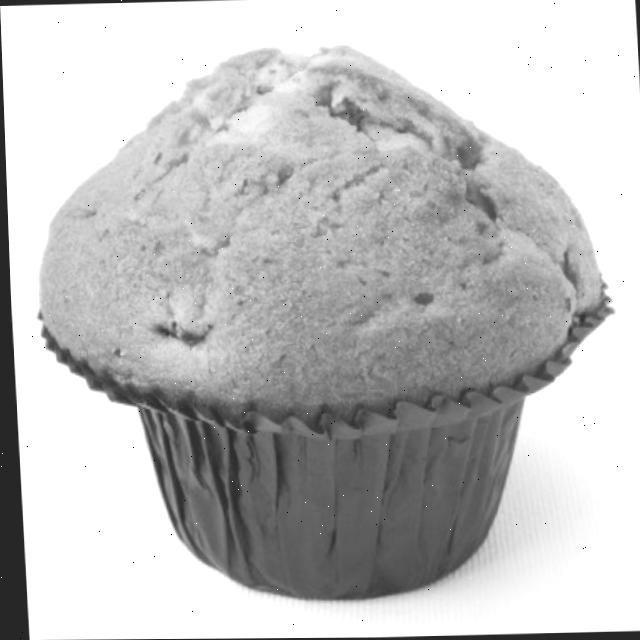炸货点心: (7, 28, 640, 625)
面包点心: (7, 28, 640, 625)
